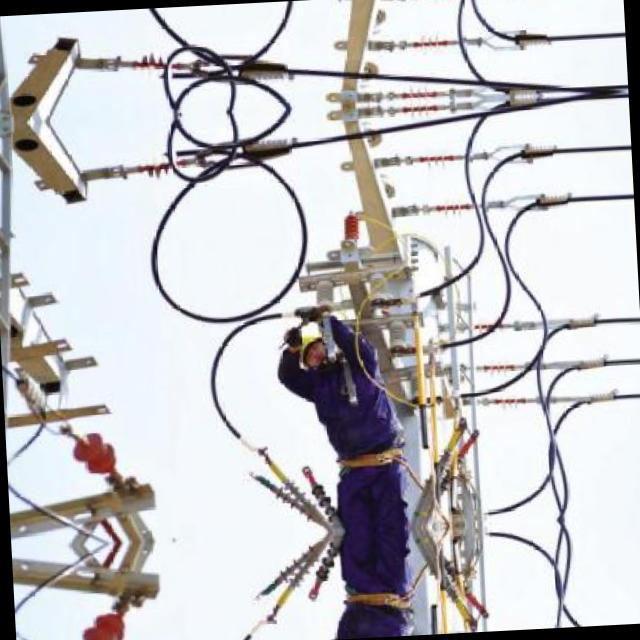helmet: (290, 329, 338, 374)
